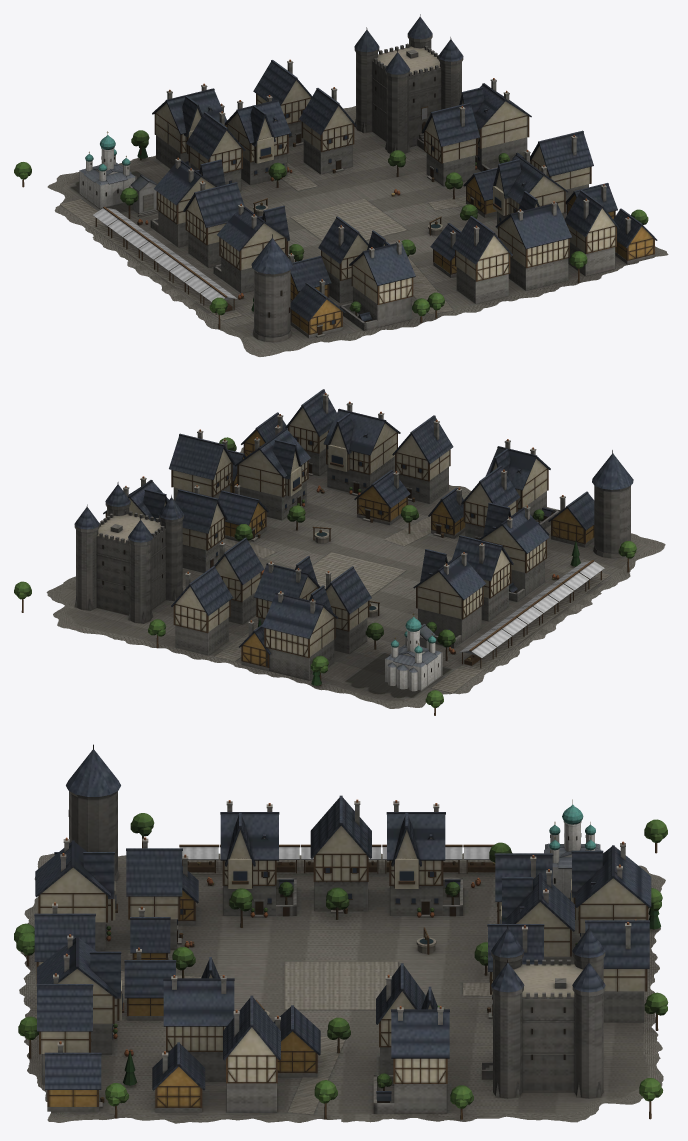
Rendered from kingdoms-town-big-b-easteurope.glb.
3 renders of one model, top to bottom at view 1: azimuth 30°, elevation 25°; view 2: azimuth 150°, elevation 25°; view 3: azimuth 270°, elevation 25°, orthographic. The views are drawn at different scales.
Parts seen in each view (by area): view 1: LOD0; view 2: LOD0; view 3: LOD0.
Part boxes in pixels (x1,y1,x2,y2): LOD0: [14, 14, 668, 356]; LOD0: [14, 389, 665, 715]; LOD0: [14, 744, 668, 1123].
Size of what is drawn, in the model's own units: 8.06 by 1.84 by 8.12.
3 materials, 3 textured.
